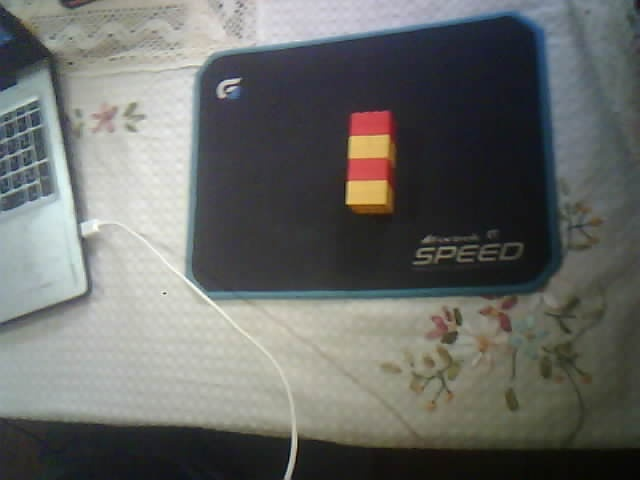lego: (343, 109, 396, 216)
